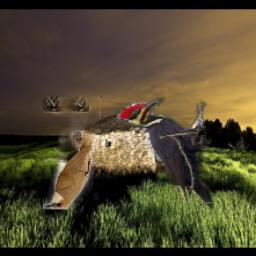Cuckoo: (43, 98, 101, 210)
Woodpecker: (117, 97, 214, 209)
